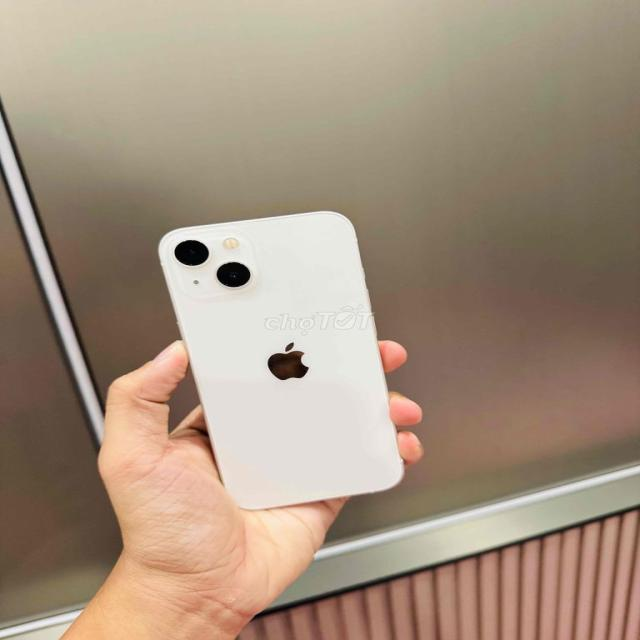gen_12_13: (159, 212, 402, 508)
